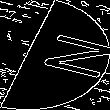N_W: (10, 27, 100, 83)
